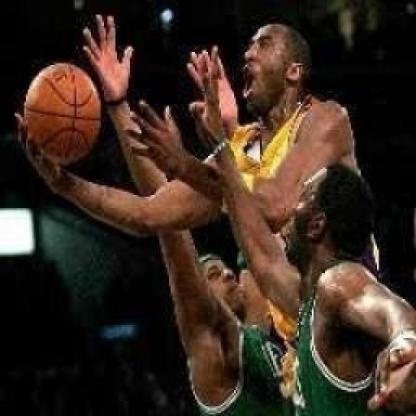basketball: (21, 58, 106, 171)
